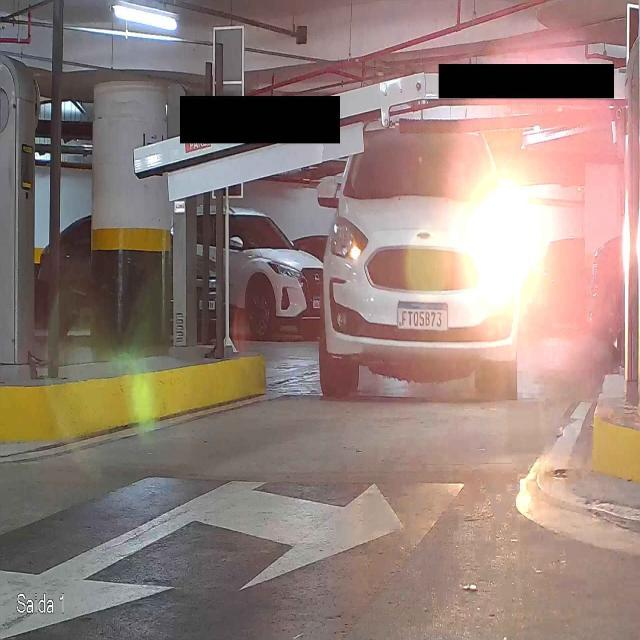mercosul_plate: (396, 301, 450, 331)
